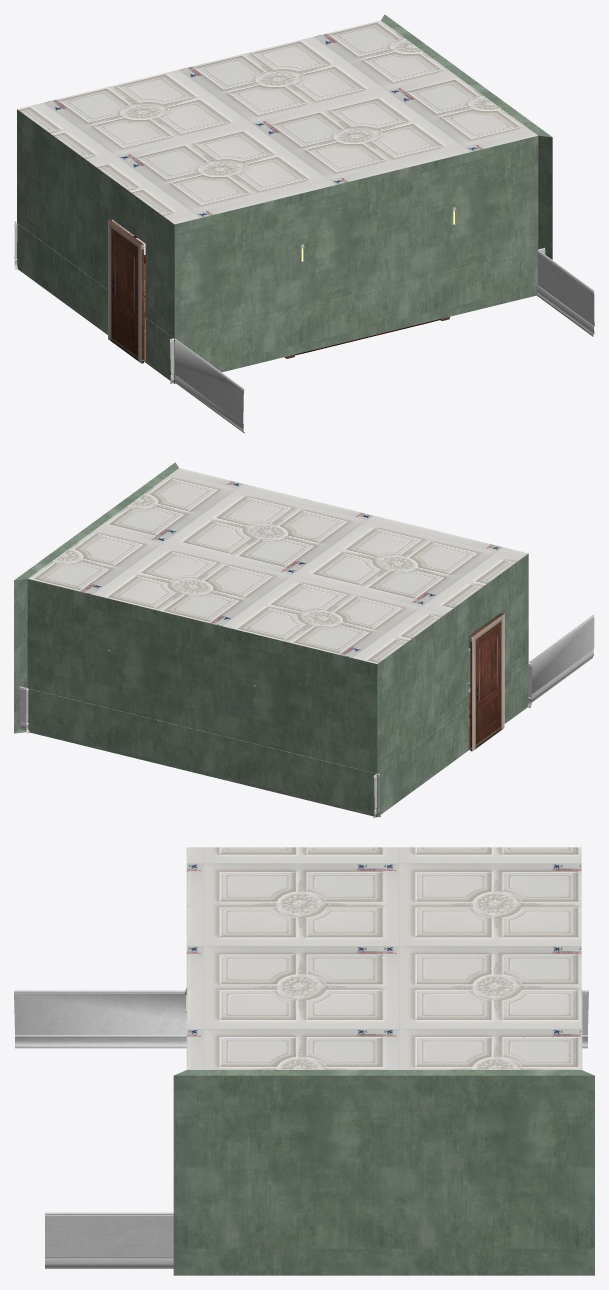
3 renders of one model, top to bottom at view 1: azimuth 30°, elevation 25°; view 2: azimuth 150°, elevation 25°; view 3: azimuth 270°, elevation 25°, orthographic. The views are drawn at different scales.
Parts seen in each view (by area): view 1: Room, Door, Plane.005, Plane.003; view 2: Room, Door, Plane.005, Plane.002; view 3: Room, Plane.005, Plane.003.
Part boxes in pixels (bbox=[...]): Room: bbox=[17, 14, 552, 383]; Door: bbox=[108, 219, 143, 363]; Plane.005: bbox=[145, 318, 244, 433]; Plane.003: bbox=[536, 250, 594, 336]; Room: bbox=[14, 462, 528, 817]; Door: bbox=[470, 613, 504, 751]; Plane.005: bbox=[513, 614, 594, 702]; Plane.002: bbox=[19, 686, 380, 817]; Room: bbox=[173, 847, 594, 1275]; Plane.005: bbox=[14, 990, 186, 1048]; Plane.003: bbox=[45, 1212, 173, 1268].
Size of the model in its own units: 829 by 342 by 882.
